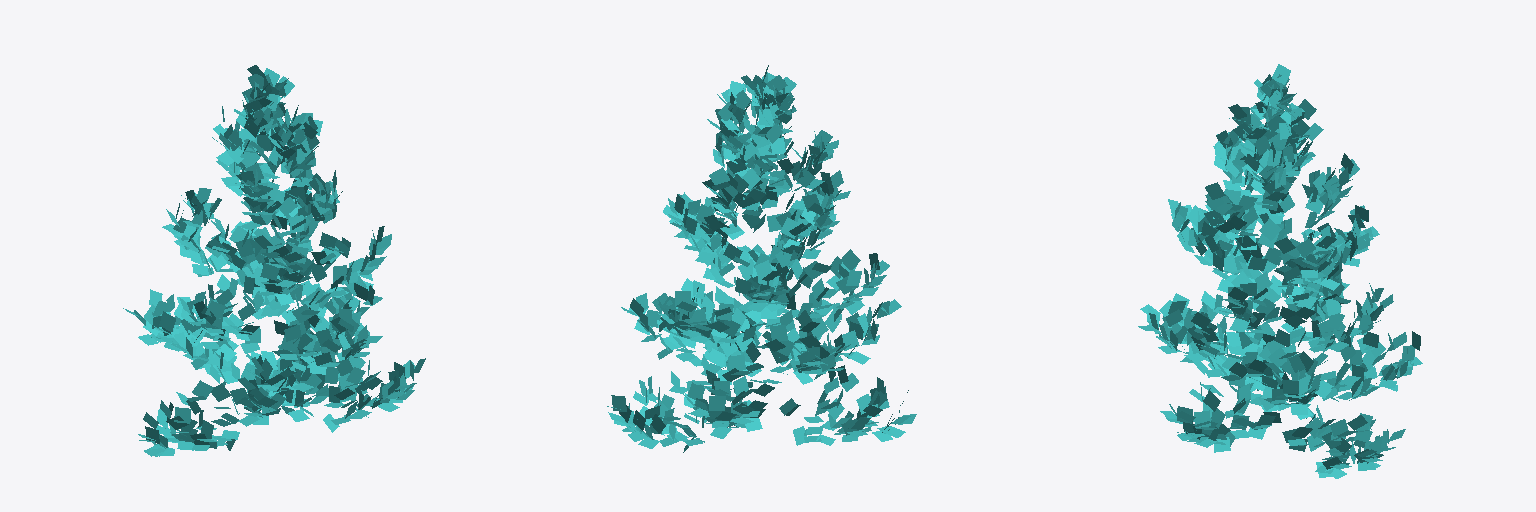
File: mapleLeaf.obj
3 renders of one model, left to right at view 1: azimuth 30°, elevation 25°; view 2: azimuth 150°, elevation 25°; view 3: azimuth 270°, elevation 25°, orthographic.
Parts seen in each view (by area): view 1: Maple_Tree; view 2: Maple_Tree; view 3: Maple_Tree.
Part boxes in pixels (x1,y1,x2,y2): Maple_Tree: (123,65,425,456); Maple_Tree: (607,65,916,452); Maple_Tree: (1138,64,1422,478).
Size of the model in its own units: 13.46 by 18.57 by 12.58.